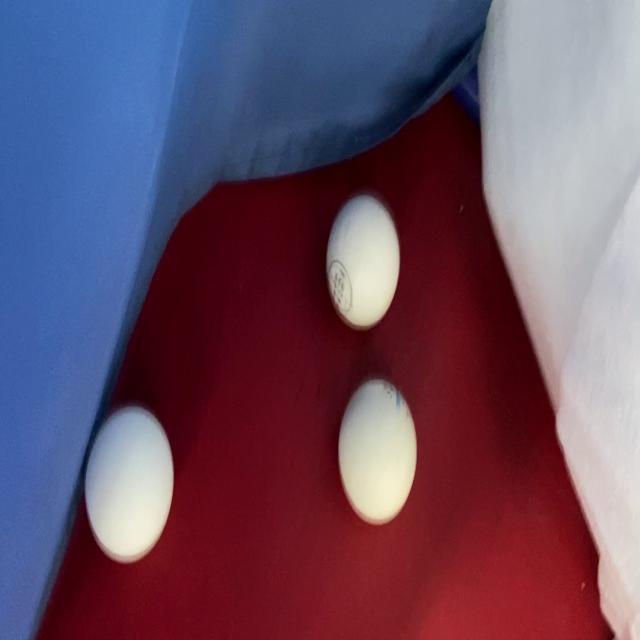ping-pong-ball: (82, 400, 176, 566), (334, 375, 419, 530), (322, 194, 402, 337)
